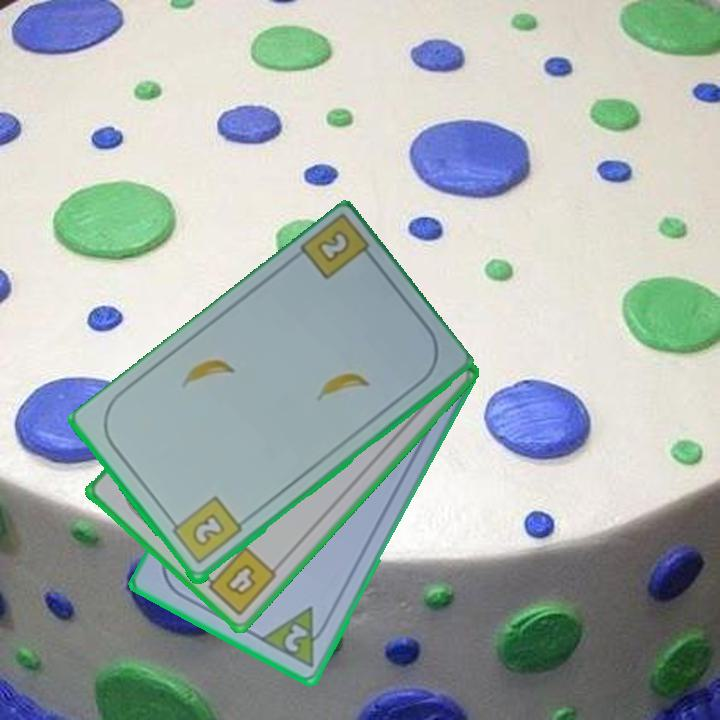2b: (165, 493, 245, 568), (313, 230, 350, 267)
2p: (257, 603, 334, 672)
4b: (197, 543, 280, 619)
